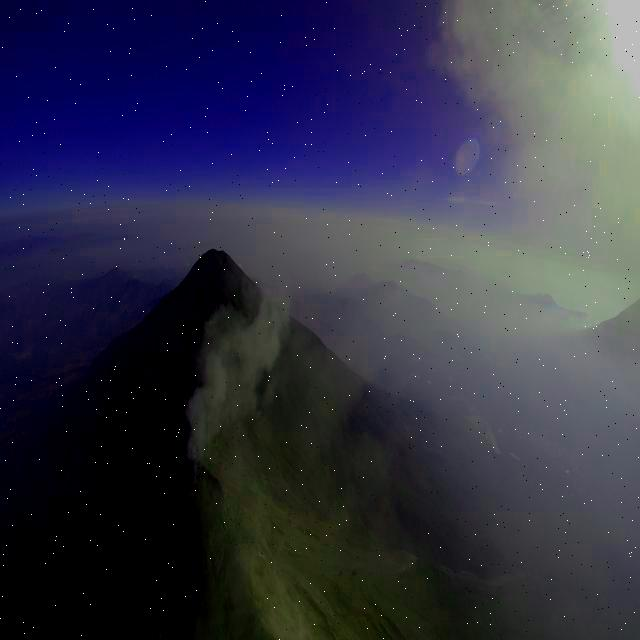Plume: (432, 0, 640, 212), (185, 276, 296, 467)
